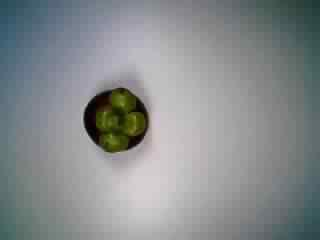mangosteen: (77, 80, 155, 155)
